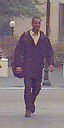person: (12, 17, 49, 112)
